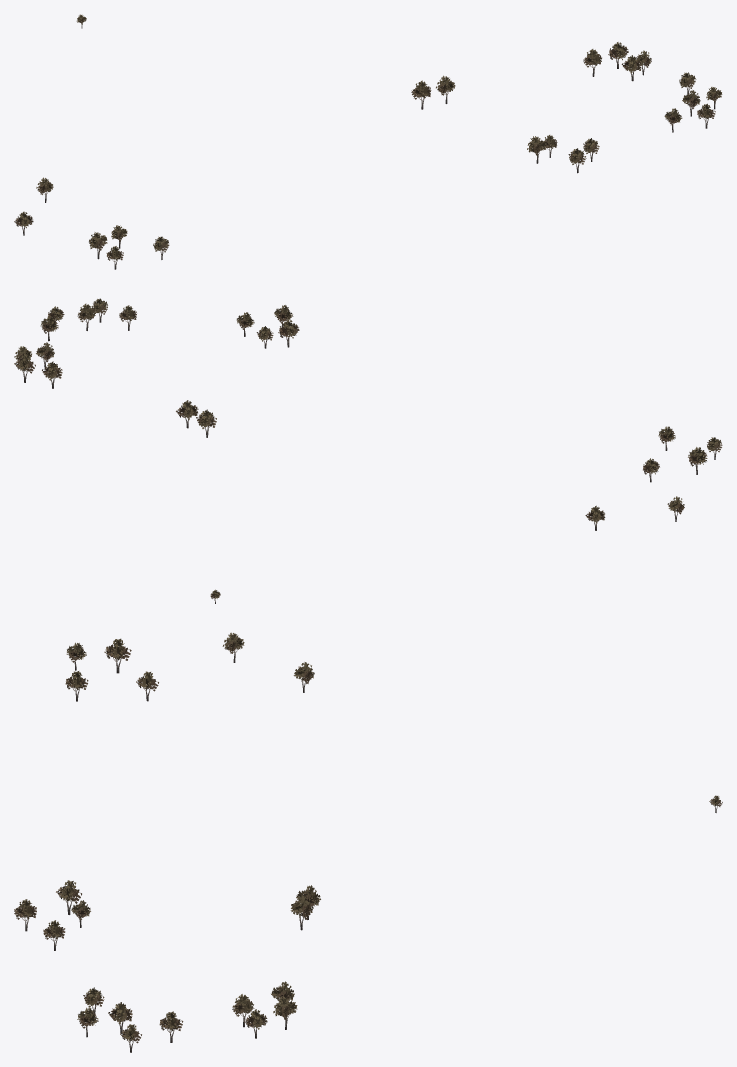
The model's file is Tree_Birch.fbx.
3 renders of one model, top to bottom at view 1: azimuth 30°, elevation 25°; view 2: azimuth 150°, elevation 25°; view 3: azimuth 270°, elevation 25°, orthographic. The views are drawn at different scales.
Parts seen in each view (by area): view 1: Combined_Tree3; view 2: Combined_Tree3; view 3: Combined_Tree3.
Part boxes in pixels (x1,y1,x2,y2): Combined_Tree3: [14, 14, 722, 269]; Combined_Tree3: [14, 298, 722, 603]; Combined_Tree3: [14, 632, 722, 1052].
Size of the model in its own units: 21047 by 1254 by 15853.
Materials: 1 (1 with a texture image).
